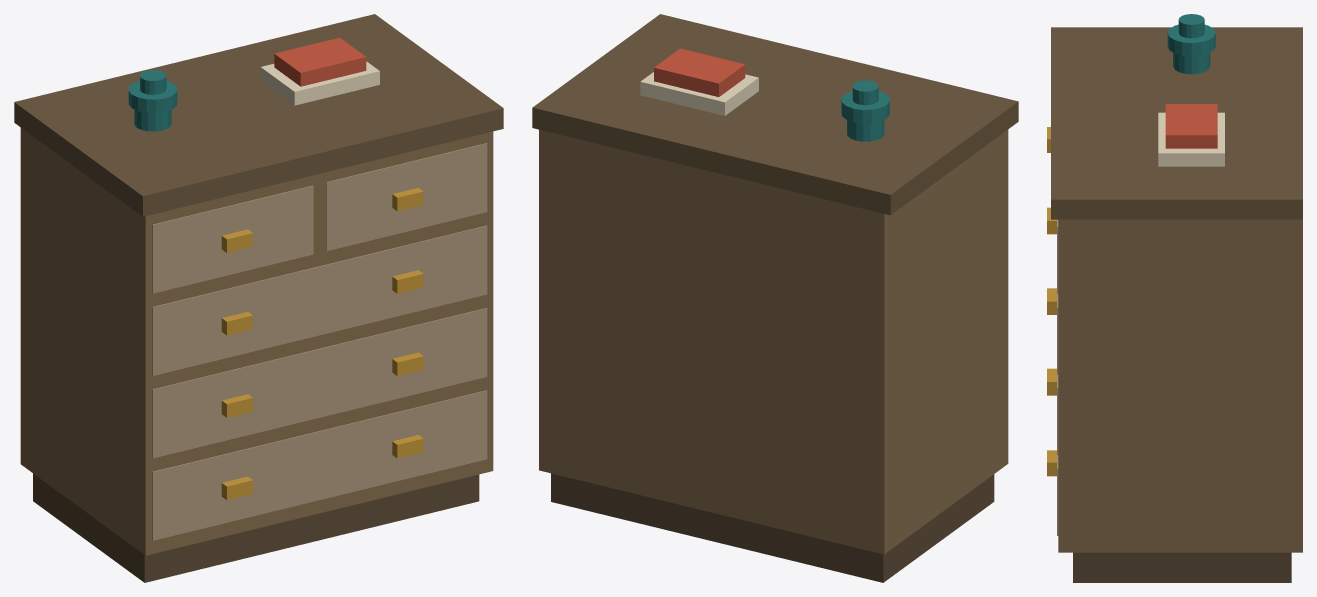
File: dresser.glb
The picture shows the model from 3 angles, left to right: view 1: azimuth 30°, elevation 25°; view 2: azimuth 150°, elevation 25°; view 3: azimuth 270°, elevation 25°; orthographic projection. The views are drawn at different scales.
Parts seen in each view (by area): view 1: dresser_Body; view 2: dresser_Body; view 3: dresser_Body.
Part boxes in pixels (bbox=[...]): dresser_Body: bbox=[14, 14, 503, 582]; dresser_Body: bbox=[532, 14, 1018, 582]; dresser_Body: bbox=[1047, 14, 1302, 582].
Bounding box in the file's own units: 1.1 × 1.3 × 0.69.
